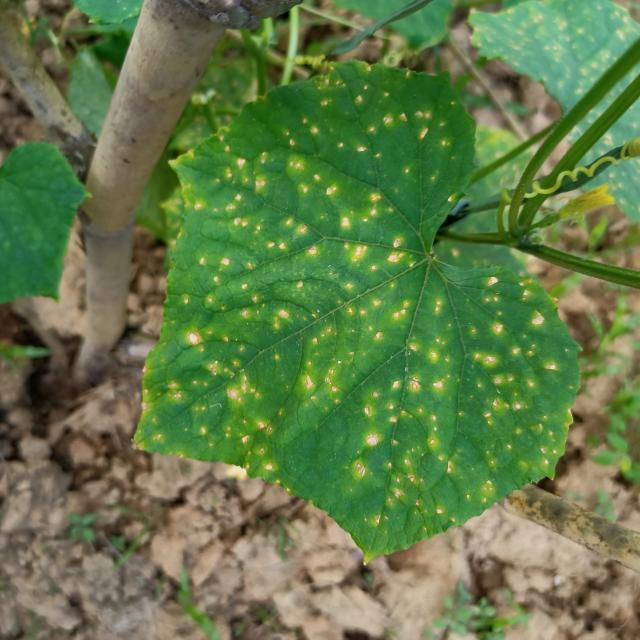disease_cucumber: (163, 90, 567, 529)
